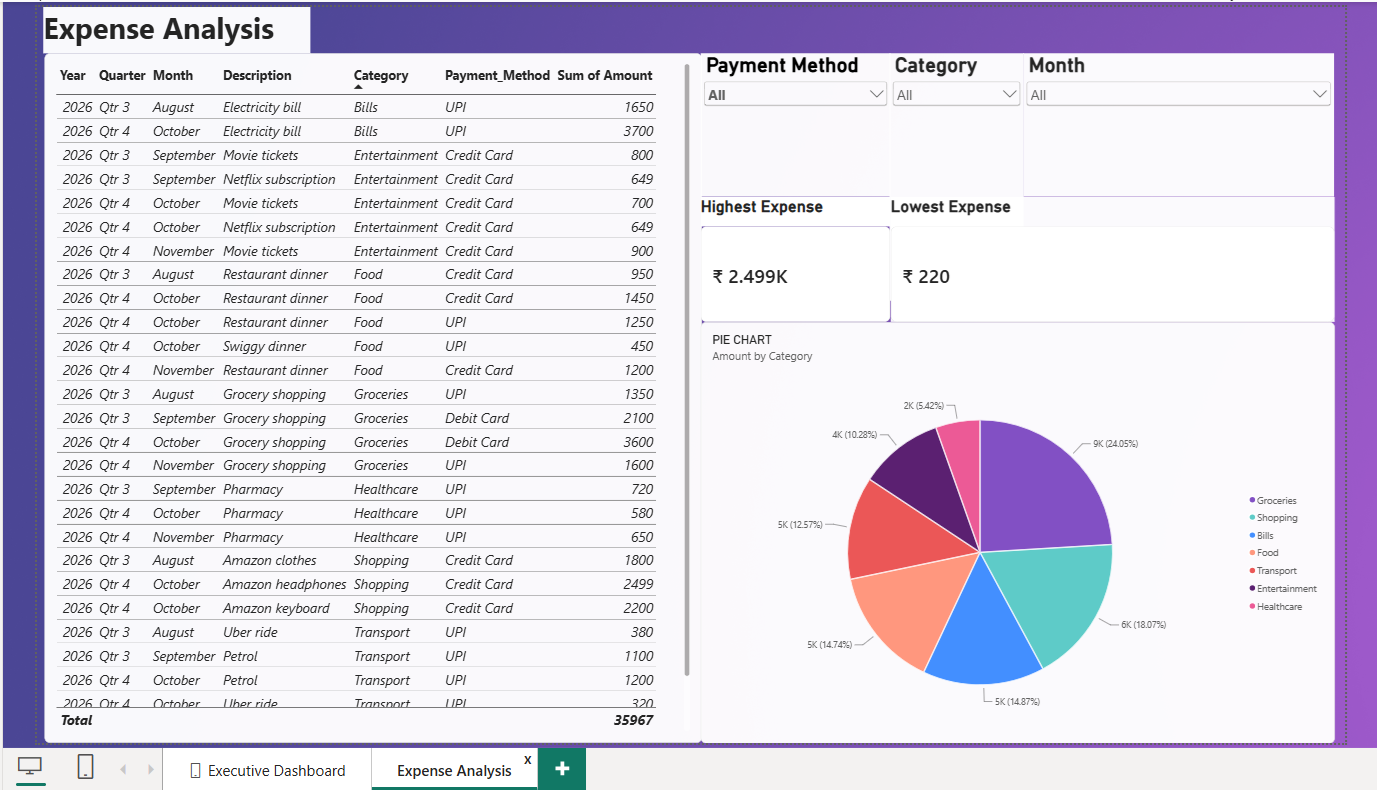

What the dashboard file says about the page in this screenshot:
{"tool":"powerbi","page":{"name":"Expense Analysis","canvas":[1920,1080],"ordinal":1},"visuals":[{"type":"tableEx","fields":{"Values":["Expense_Tracker.Date.Variation.Date Hierarchy.Year","Expense_Tracker.Date.Variation.Date Hierarchy.Quarter","Expense_Tracker.Date.Variation.Date Hierarchy.Month","Expense_Tracker.Description","Expense_Tracker.Category","Expense_Tracker.Payment_Method","Sum(Expense_Tracker.Amount)"]},"box":[10.9,68.8,964.5,1011.6],"z":0},{"type":"slicer","fields":{"Values":["Expense_Tracker.Payment_Method"]},"box":[973.8,67.5,278.8,210],"z":1000},{"type":"textbox","box":[10,0,392,68],"z":2000},{"type":"slicer","fields":{"Values":["Expense_Tracker.Category"]},"box":[1251.4,67.1,197.1,362.9],"z":3000},{"type":"slicer","fields":{"Values":["Expense_Tracker.Date.Variation.Date Hierarchy.Month"]},"box":[1448,68,456,210],"z":4000},{"type":"cardVisual","title":"Highest Expense","fields":{"Data":["Max(Expense_Tracker.Amount)"]},"box":[974,278,278,184],"z":5000},{"type":"cardVisual","title":"Lowest Expense","fields":{"Data":["Min(Expense_Tracker.Amount)"]},"box":[1252.8,278.8,651.2,183.4],"z":6000},{"type":"pieChart","title":"PIE CHART","fields":{"Category":["Expense_Tracker.Category"],"Y":["Sum(Expense_Tracker.Amount)"]},"box":[974,462,930,618],"z":6001}]}

Visuals, with their boxes on the page's 1920x1080 design canvas (x1, y1, x2, y2). These are canvas units, not pixel positions in the 1377x790 screenshot, which may show the page scaled, cropped or inside an application window:
tableEx - Expense_Tracker.Date.Variation.Date Hierarchy.Year x Expense_Tracker.Date.Variation.Date Hierarchy.Quarter: 11:69:975:1080
slicer - Expense_Tracker.Payment_Method: 974:68:1253:278
textbox: 10:0:402:68
slicer - Expense_Tracker.Category: 1251:67:1448:430
slicer - Expense_Tracker.Date.Variation.Date Hierarchy.Month: 1448:68:1904:278
"Highest Expense" cardVisual: 974:278:1252:462
"Lowest Expense" cardVisual: 1253:279:1904:462
"PIE CHART" pieChart: 974:462:1904:1080
